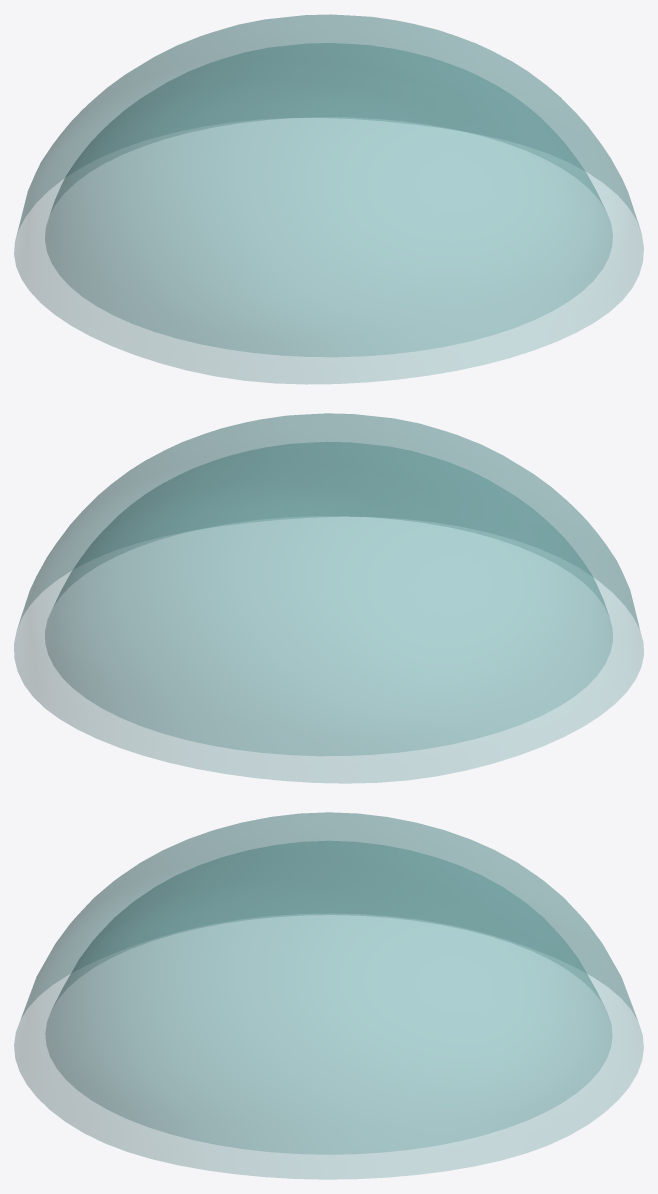
The model's file is Test_CupolGlass.fbx.
3 renders of one model, top to bottom at view 1: azimuth 30°, elevation 25°; view 2: azimuth 150°, elevation 25°; view 3: azimuth 270°, elevation 25°, orthographic.
Parts seen in each view (by area): view 1: SmartSeparate_9; view 2: SmartSeparate_9; view 3: SmartSeparate_9.
Part boxes in pixels (x1,y1,x2,y2): SmartSeparate_9: [14, 14, 643, 384]; SmartSeparate_9: [14, 413, 643, 783]; SmartSeparate_9: [14, 812, 643, 1179].
Bounding box in the file's own units: 611 × 213 × 611.
